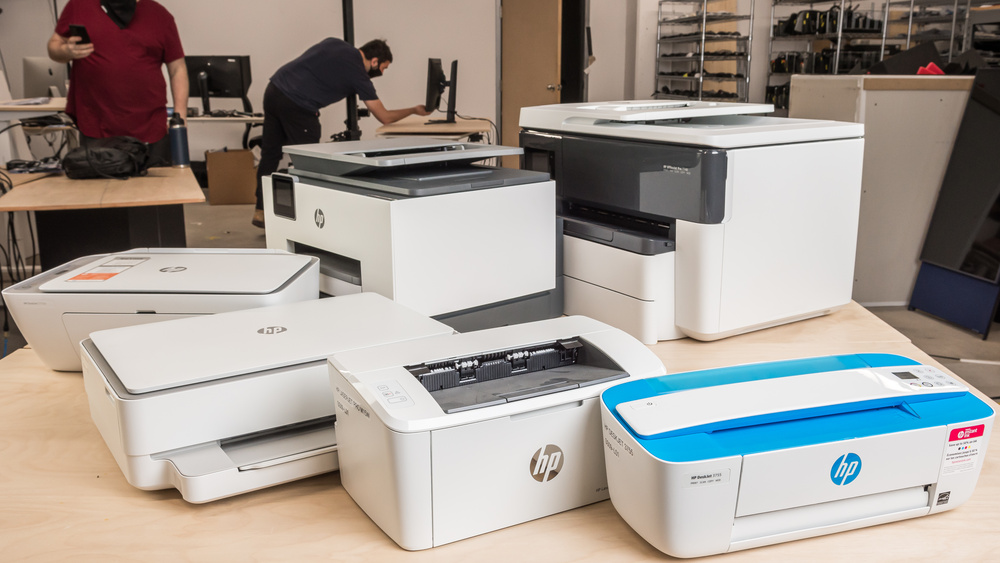printer: (523, 97, 869, 341), (599, 356, 1000, 562), (61, 287, 379, 492)
